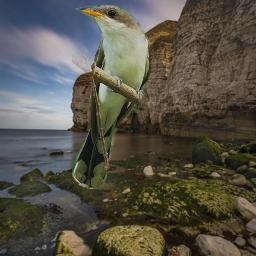Cuckoo: (72, 5, 153, 189)
